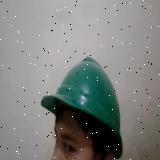Helmet: (40, 55, 124, 156)
